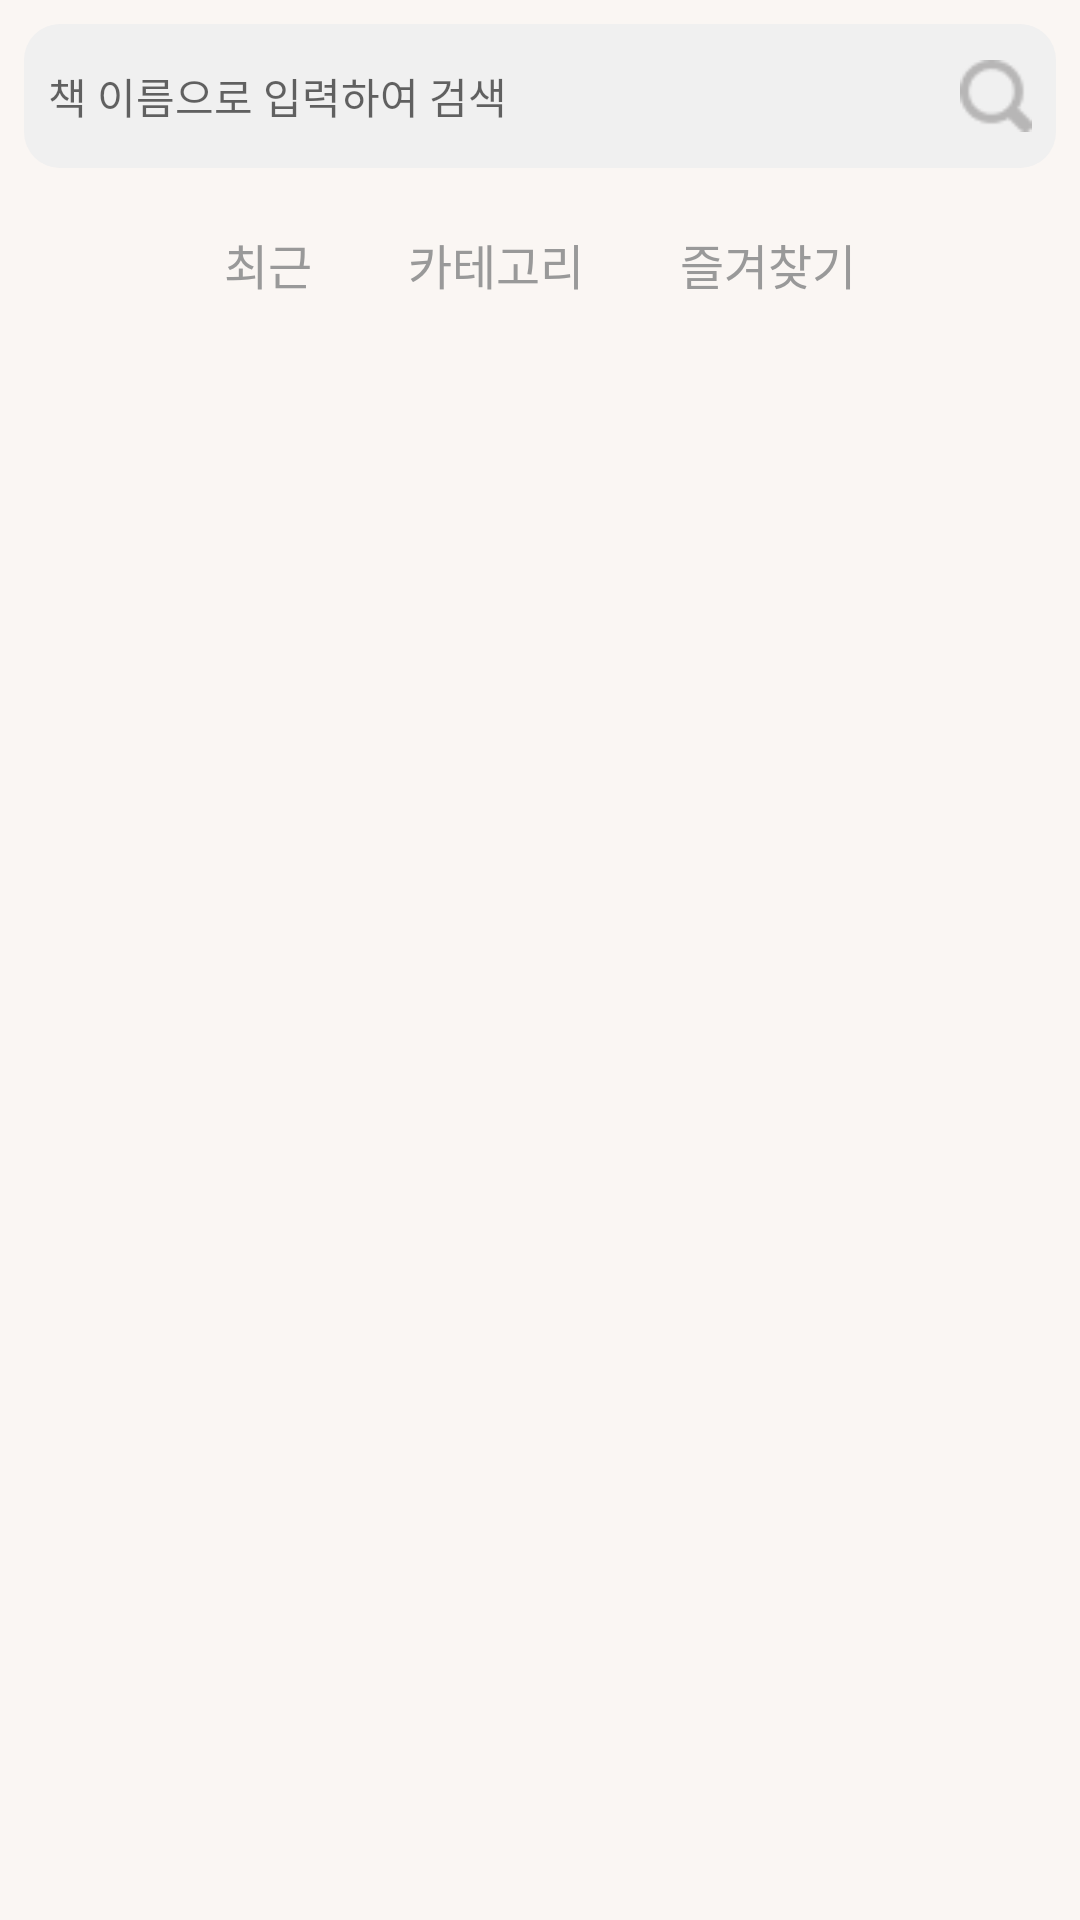

Named icons in this screenshot (1080×1920) and their centers, [x,y]:
search: [996,96]
